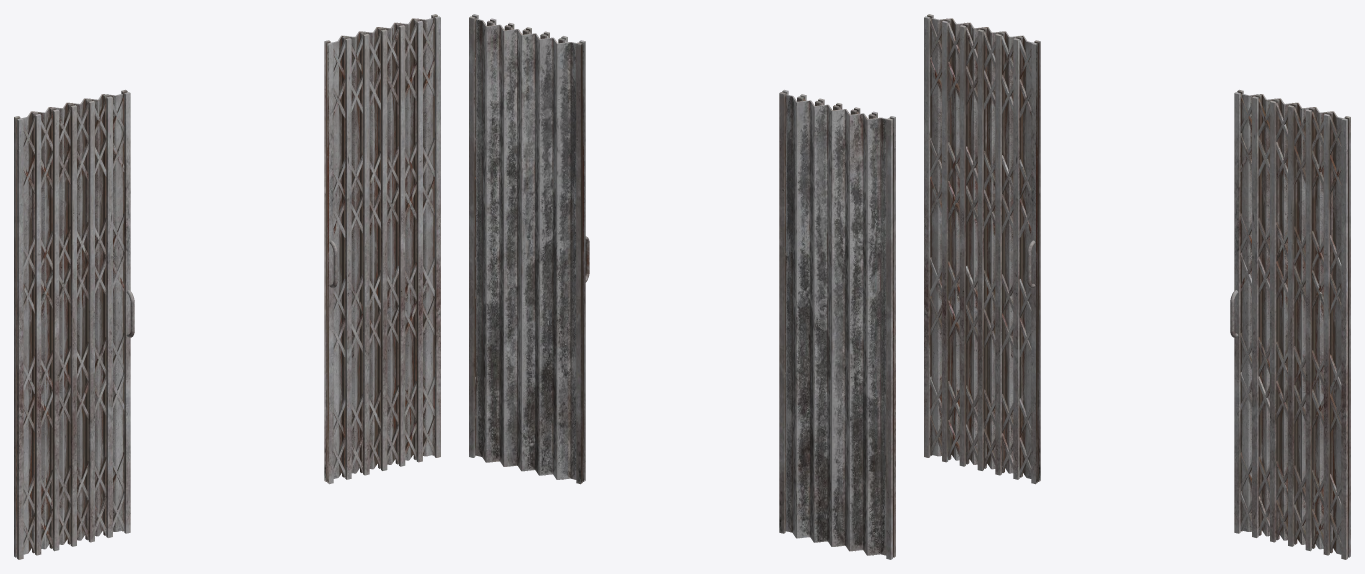
File: SM_Folding_Doors_Short_Open.glb
3 renders of one model, left to right at view 1: azimuth 30°, elevation 25°; view 2: azimuth 150°, elevation 25°; view 3: azimuth 330°, elevation 25°, orthographic.
Parts seen in each view (by area): view 1: SM_Folding_Doors_Short_Open; view 2: SM_Folding_Doors_Short_Open; view 3: SM_Folding_Doors_Short_Open.
Part boxes in pixels (bbox=[...]): SM_Folding_Doors_Short_Open: bbox=[14, 14, 440, 559]; SM_Folding_Doors_Short_Open: bbox=[469, 14, 895, 559]; SM_Folding_Doors_Short_Open: bbox=[924, 14, 1350, 559].
Bounding box in the file's own units: 2.66 × 2.65 × 0.1462.
1 material, 1 textured.
